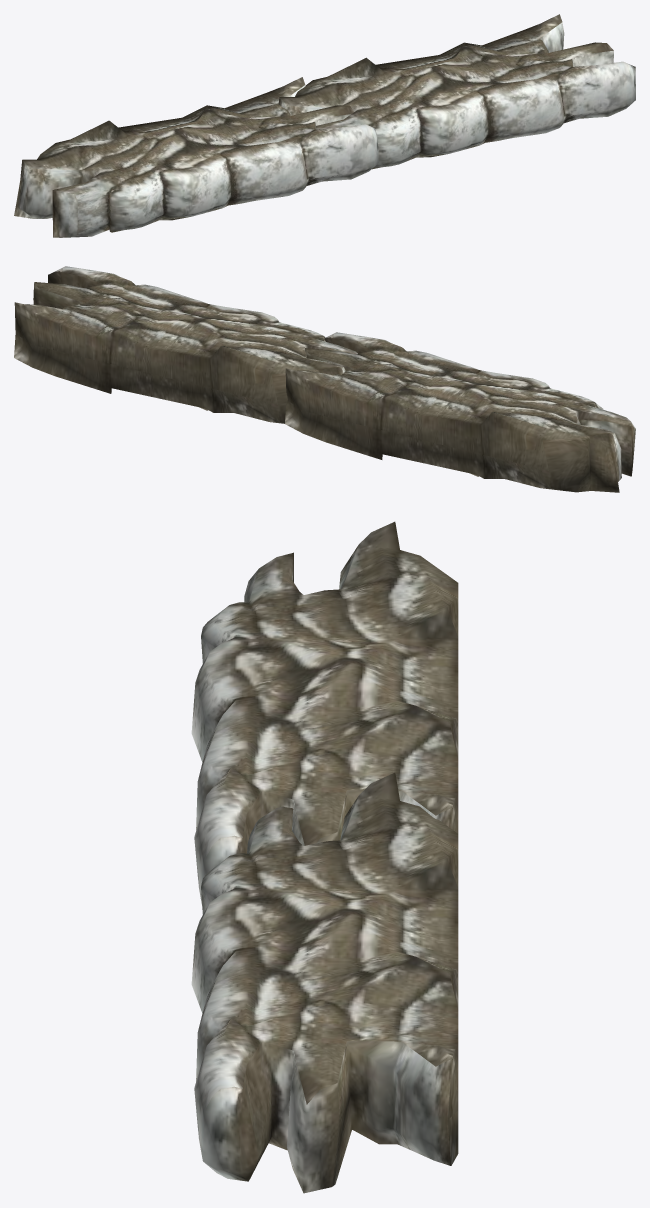
Rendered from military_sandbag_snow_longsection.glb.
The picture shows the model from 3 angles, top to bottom: view 1: azimuth 30°, elevation 25°; view 2: azimuth 150°, elevation 25°; view 3: azimuth 270°, elevation 25°; orthographic projection. The views are drawn at different scales.
Bounding box in the file's own units: 169 × 22.14 × 33.47.
1 material, 1 textured.
